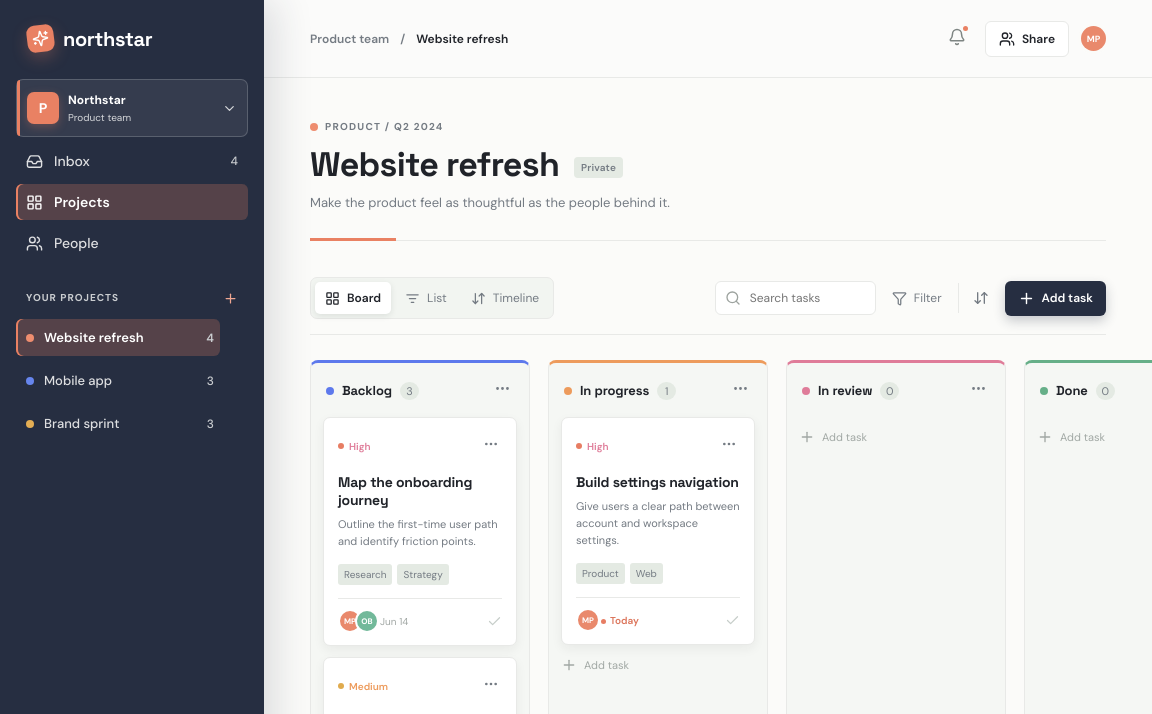
Test: Notifications panel › 'View all in inbox' navigates to Inbox section and closes panel
Click the button named "Notifications" at point(957, 38), box [941,20,973,56]
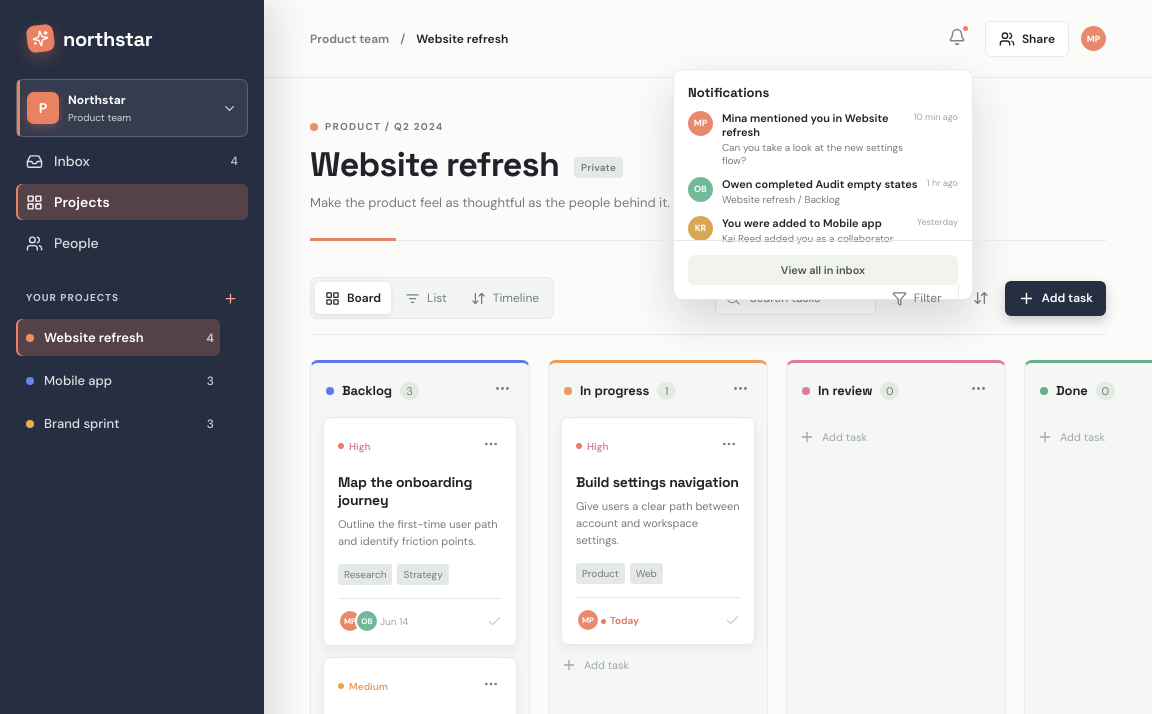
Click the button "View all in inbox" at point(823, 270), box [688,254,958,284]
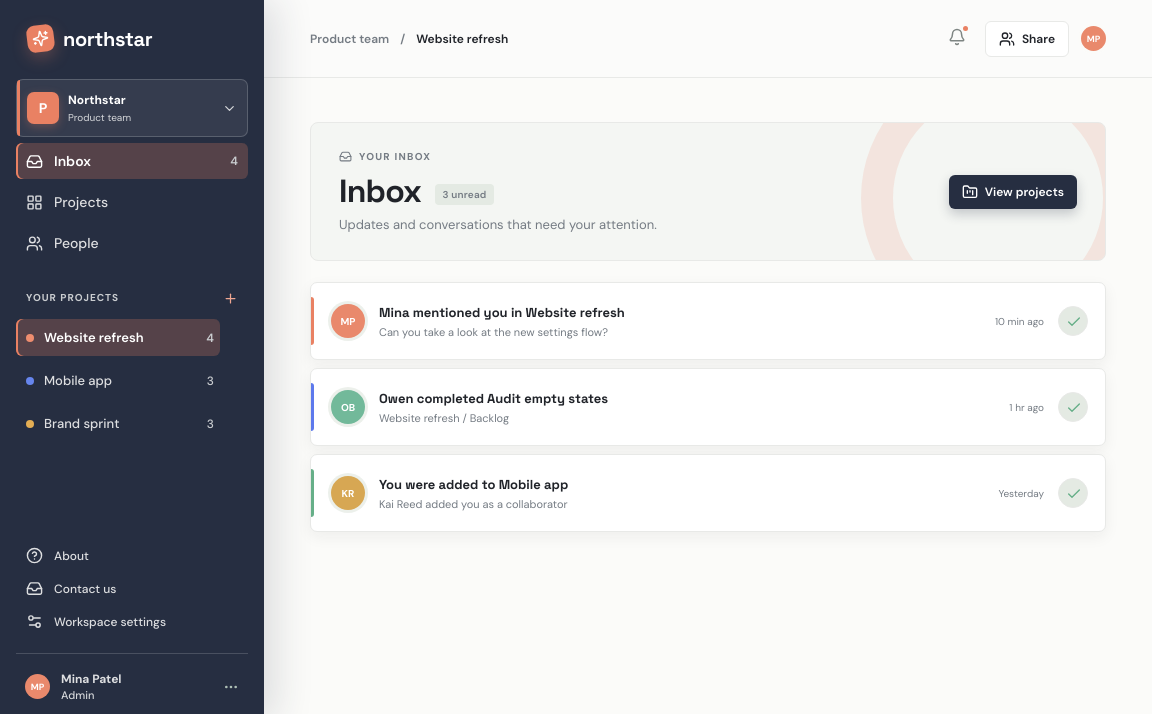
expect the text "3 unread" is shown: met, box [435,184,494,205]
